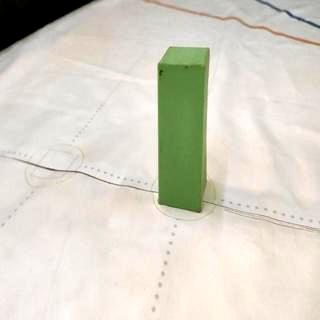greenbox: (156, 44, 211, 214)
